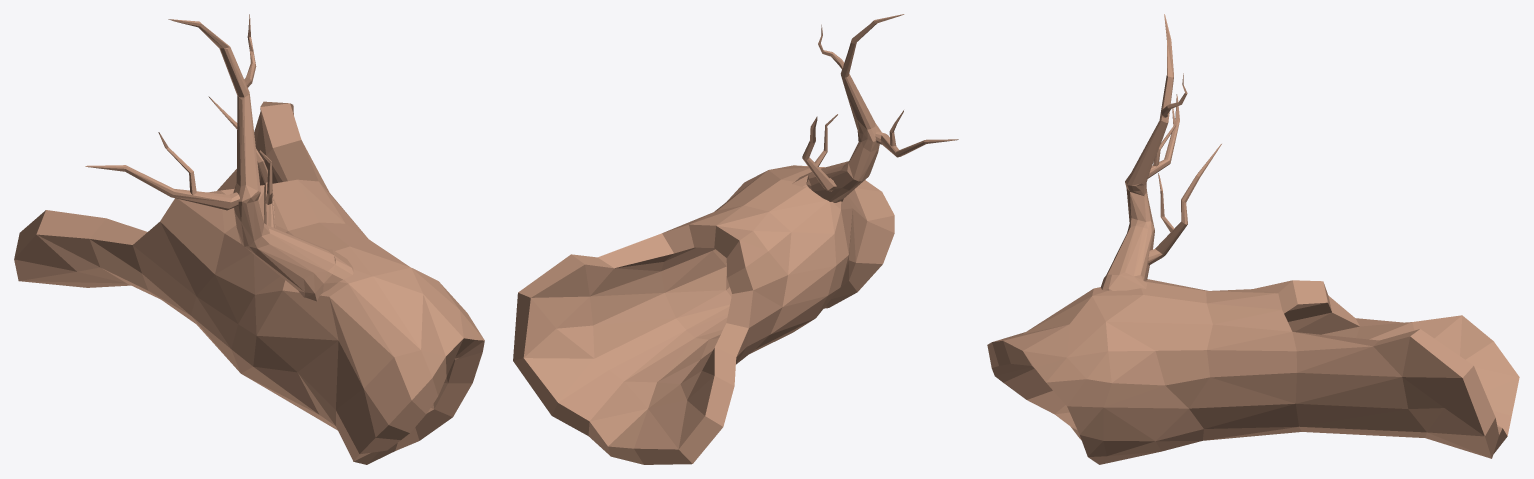
Rendered from fir_tree_5.fbx.
3 renders of one model, left to right at view 1: azimuth 30°, elevation 25°; view 2: azimuth 150°, elevation 25°; view 3: azimuth 270°, elevation 25°, orthographic. The views are drawn at different scales.
Visible parts, largest first — view 1: fir_tree_trunk_5_LOD0; view 2: fir_tree_trunk_5_LOD0; view 3: fir_tree_trunk_5_LOD0.
Boxes of the visible parts, <box> form: fir_tree_trunk_5_LOD0: <box>14,14,484,464</box>; fir_tree_trunk_5_LOD0: <box>513,14,958,464</box>; fir_tree_trunk_5_LOD0: <box>987,14,1519,464</box>.
Size of what is drawn, in the model's own units: 3.83 by 4.34 by 5.61.
